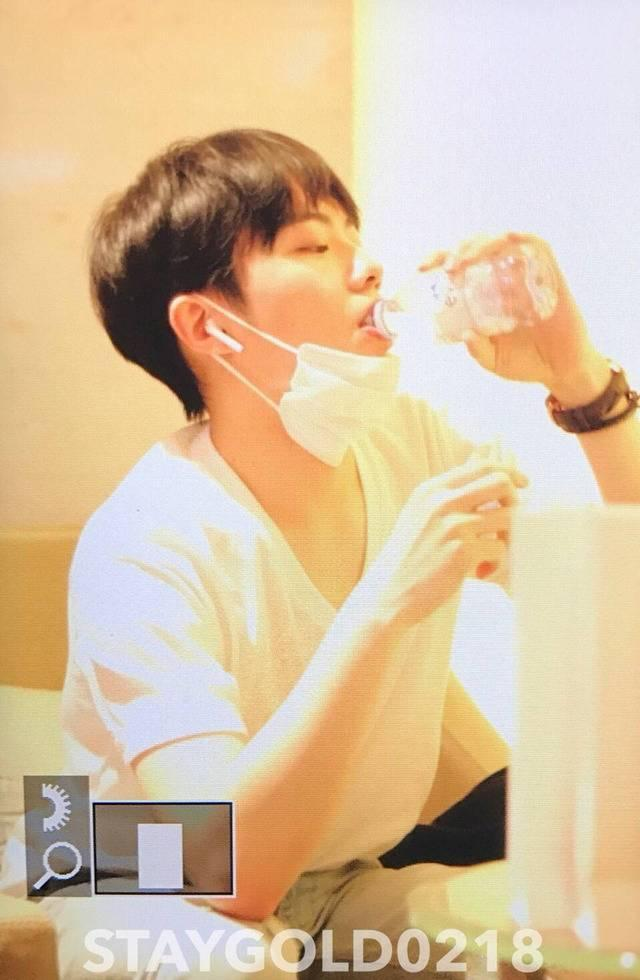earphone: (198, 313, 253, 358)
